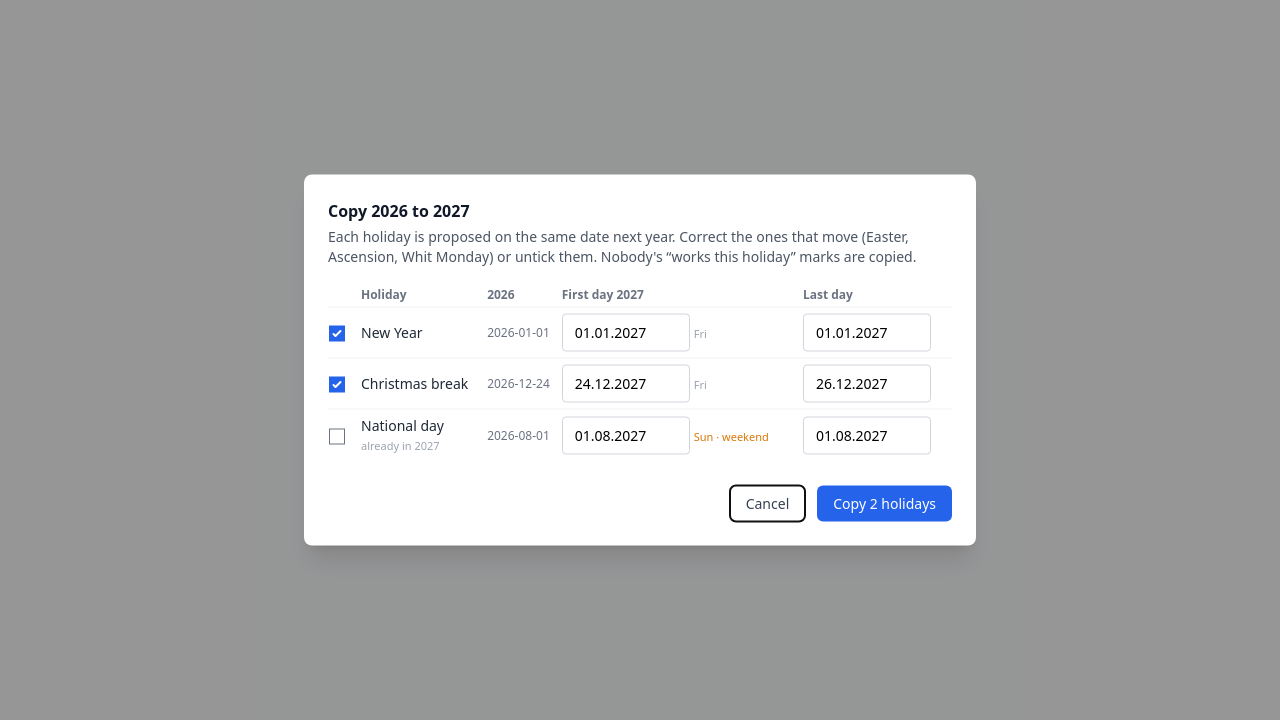
Test case: CopyYearDialog › moves a one-day holiday as one day
Expected: the checkbox named "Copy New Year" is shown, [329, 326, 345, 342]
Replace the text in the 1st field with "04.01.2027": coordinates (626, 332) [562, 314, 690, 352]
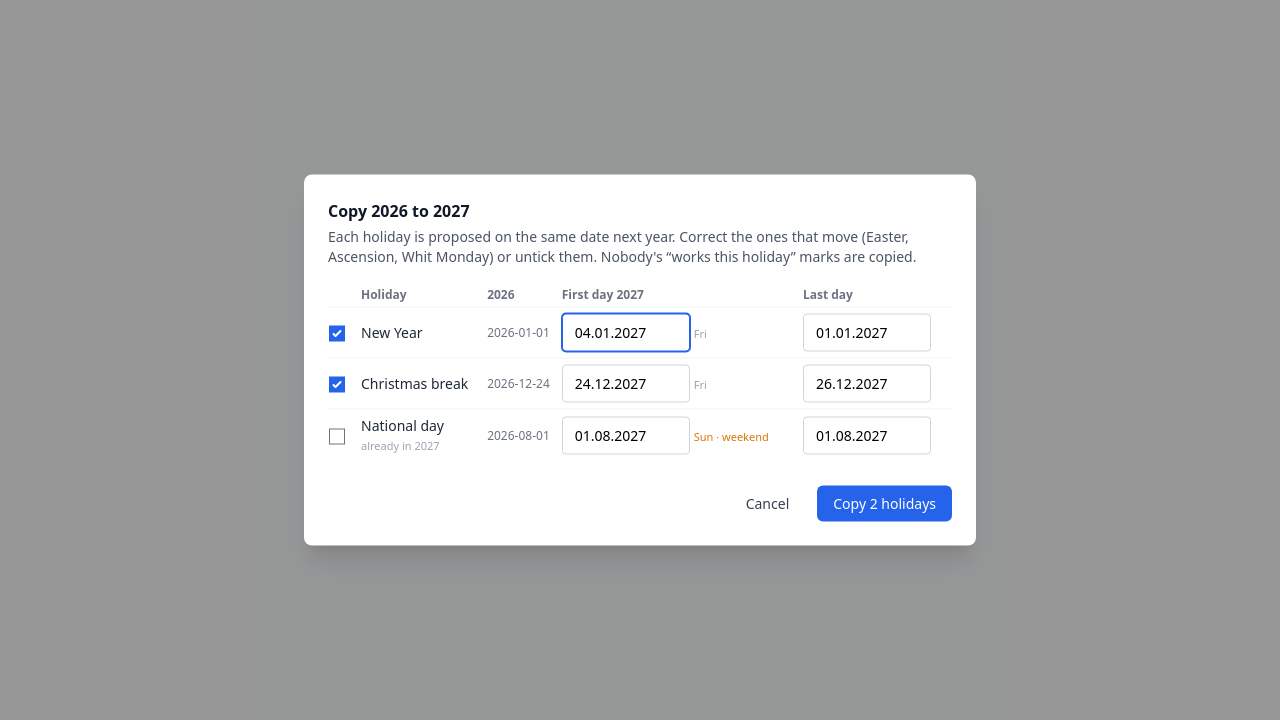
Press Tab
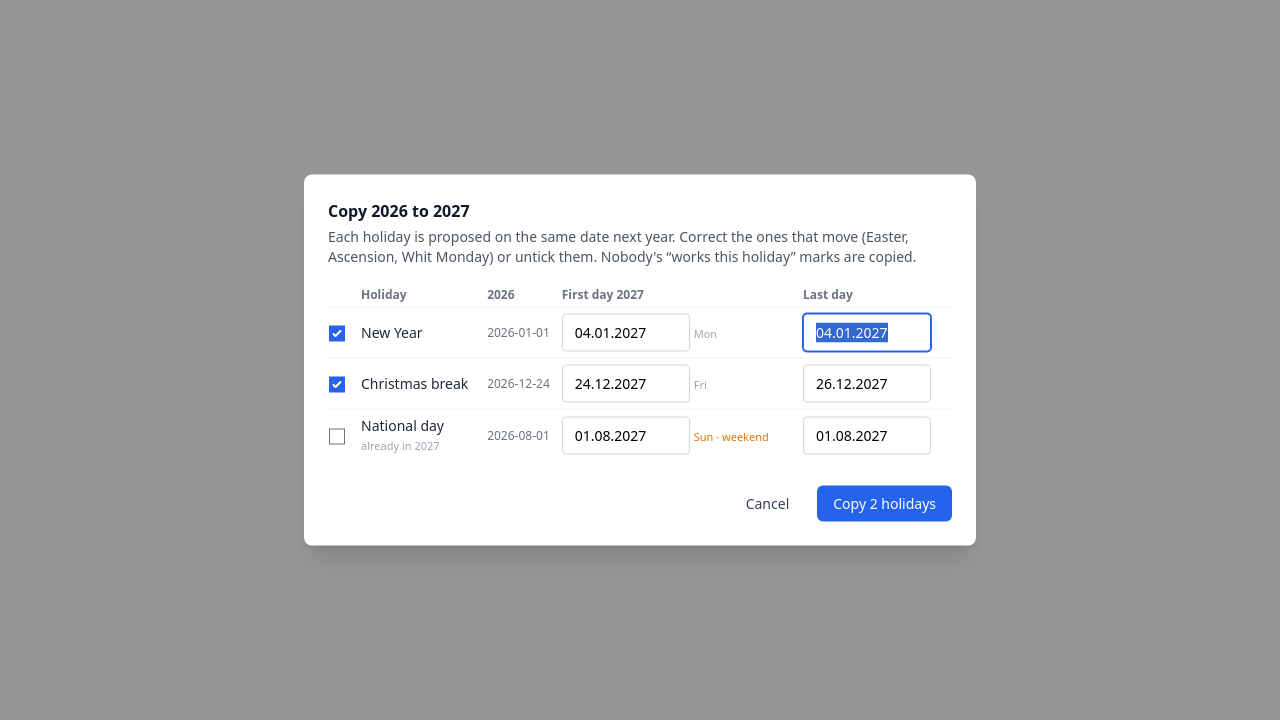
Expected: the 2nd field holds "04.01.2027", [803, 314, 931, 352]
Expected: the text "Mon" is shown, [694, 326, 717, 340]
